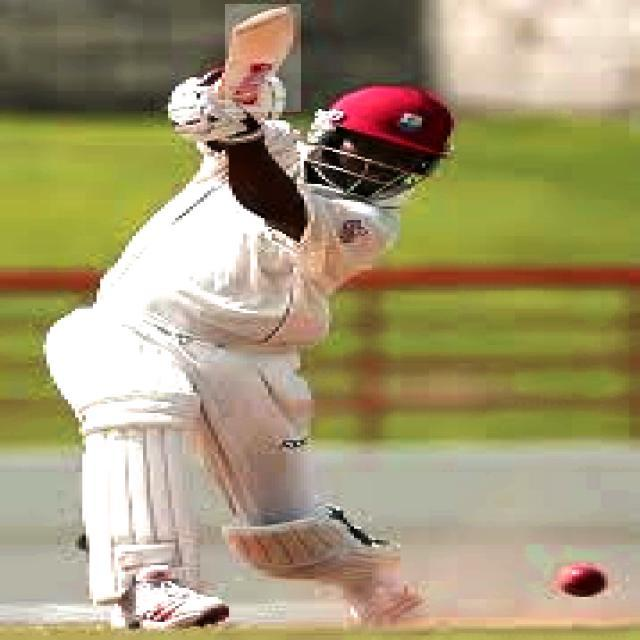bat: (229, 3, 300, 112)
toe: (244, 14, 270, 31)
